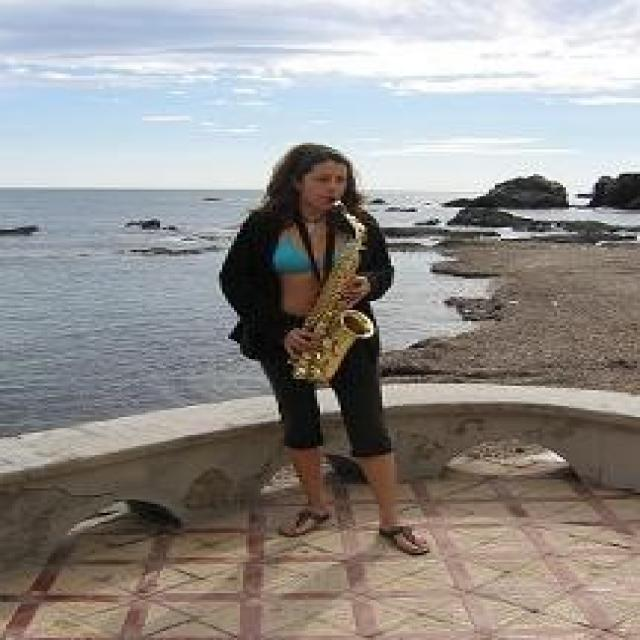saxophone: (284, 199, 382, 390)
